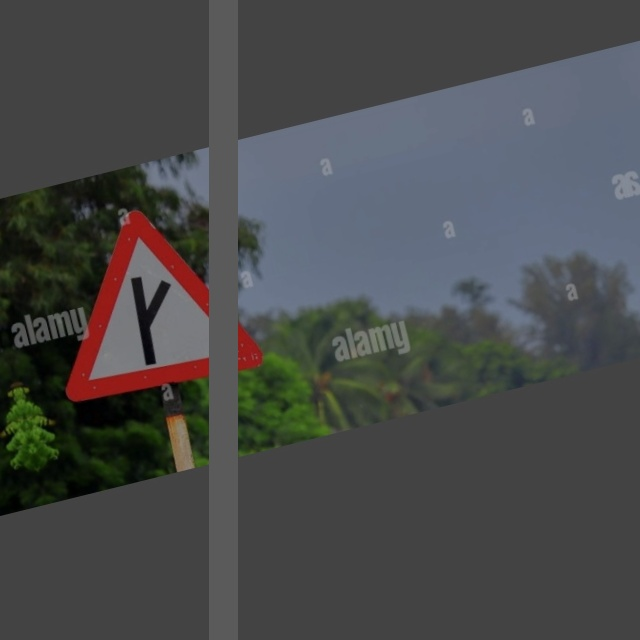Y_Intersection: (34, 184, 262, 413)
